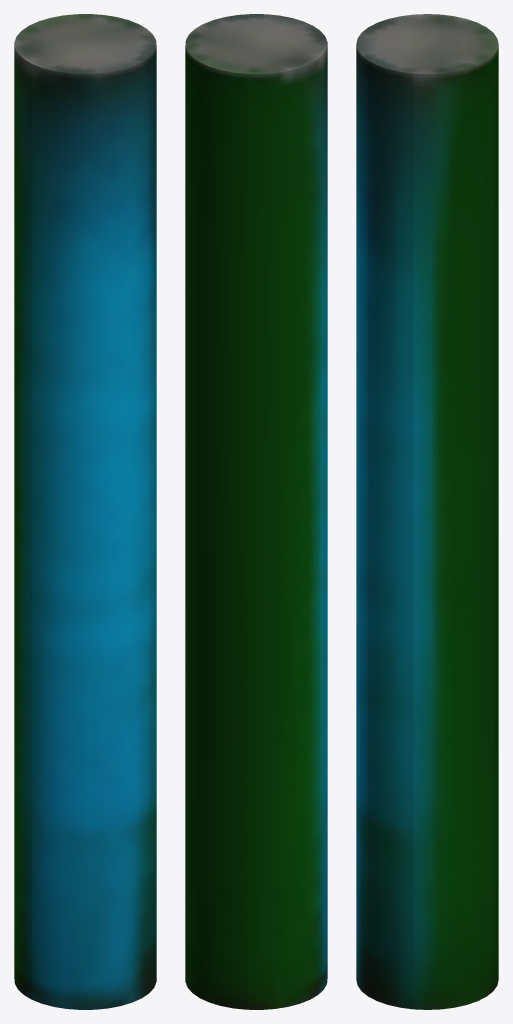
Rendered from center_reel__axle.glb.
The picture shows the model from 3 angles, left to right: view 1: azimuth 30°, elevation 25°; view 2: azimuth 150°, elevation 25°; view 3: azimuth 270°, elevation 25°; orthographic projection.
Parts seen in each view (by area): view 1: world; view 2: world; view 3: world.
Boxes of the visible parts, <box> form: world: <box>14,14,156,1009</box>; world: <box>185,14,327,1009</box>; world: <box>356,14,498,1009</box>.
Bounding box in the file's own units: 0.02 × 0.145 × 0.02.
1 material, 1 textured.
